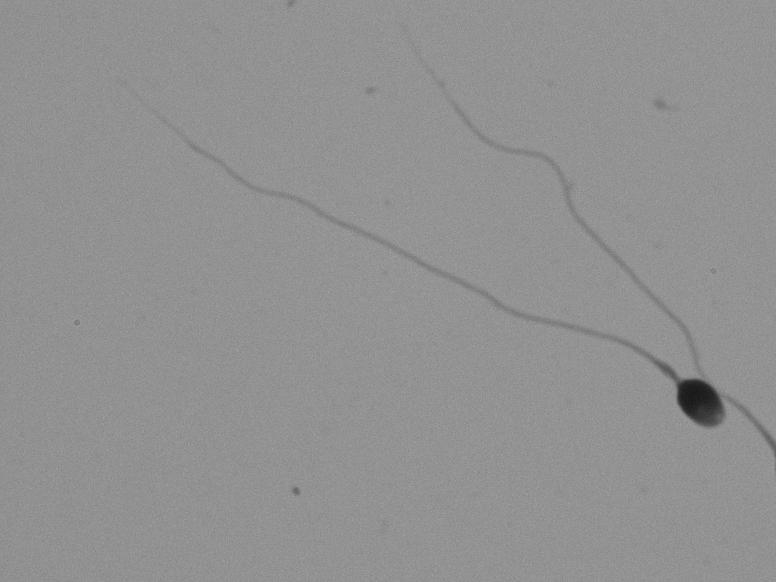Normal: (48, 72, 747, 449)
